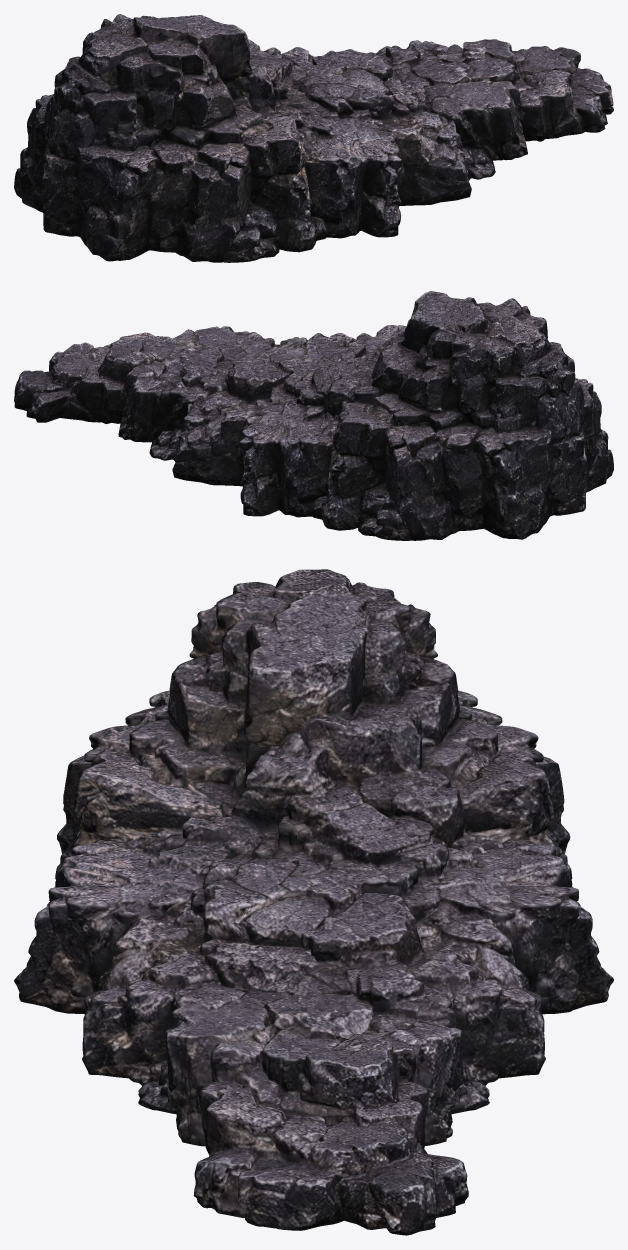
Rendered from hero-rock.glb.
3 renders of one model, top to bottom at view 1: azimuth 30°, elevation 25°; view 2: azimuth 150°, elevation 25°; view 3: azimuth 270°, elevation 25°, orthographic. The views are drawn at different scales.
Parts seen in each view (by area): view 1: hero-rock; view 2: hero-rock; view 3: hero-rock.
Part boxes in pixels (x1,y1,x2,y2): hero-rock: [14, 14, 613, 262]; hero-rock: [14, 291, 613, 540]; hero-rock: [14, 569, 613, 1235].
Size of the model in its own units: 0.9785 by 0.2989 by 0.5624.
Materials: 1 (1 with a texture image).
